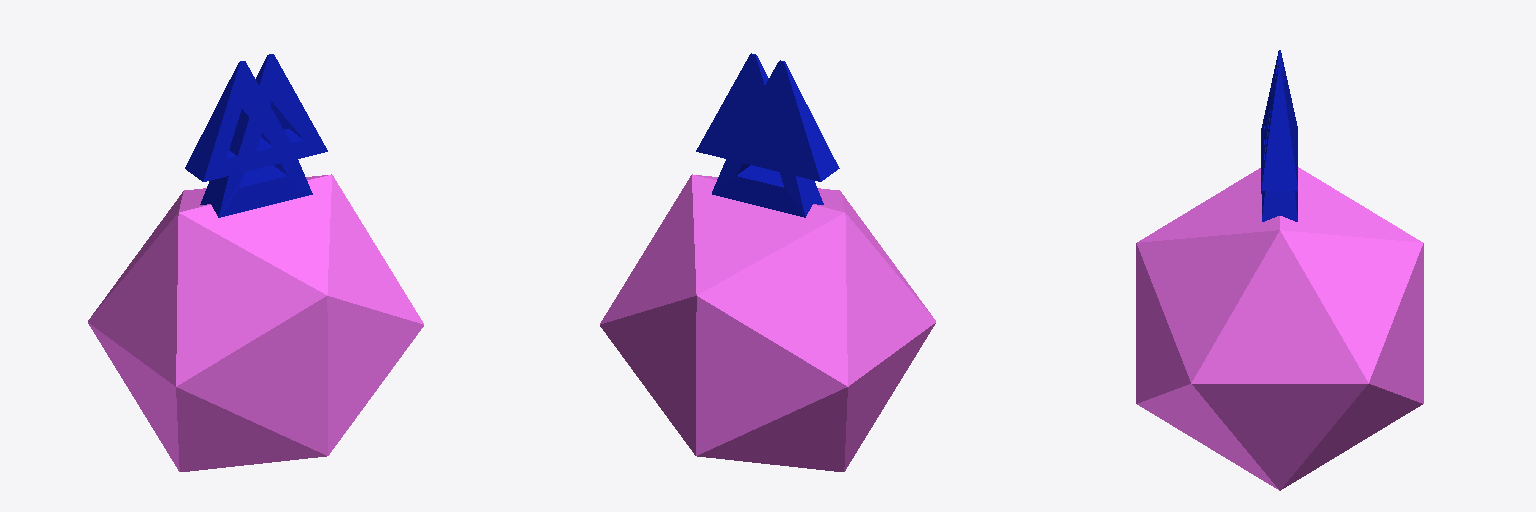
The model's file is orbePasoNivel.obj.
3 views of the same model, side by side, from view 1: azimuth 30°, elevation 25°; view 2: azimuth 150°, elevation 25°; view 3: azimuth 270°, elevation 25° (orthographic).
Visible parts, largest first — view 1: Espada_1.002_Cube.001; view 2: Espada_1.002_Cube.001; view 3: Espada_1.002_Cube.001.
Part boxes in pixels (bbox=[...]): Espada_1.002_Cube.001: bbox=[88, 54, 423, 471]; Espada_1.002_Cube.001: bbox=[600, 53, 935, 471]; Espada_1.002_Cube.001: bbox=[1136, 50, 1423, 490].
Bounding box in the file's own units: 0.3403 × 0.5176 × 0.3403.